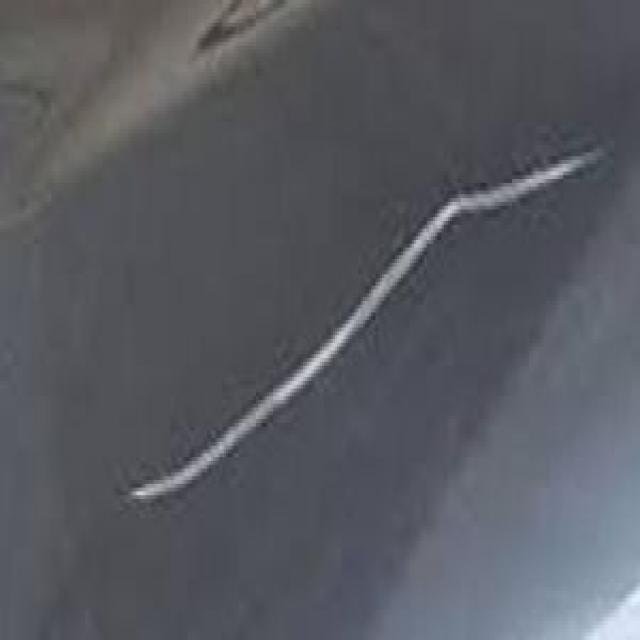scratch: (106, 118, 624, 518)
